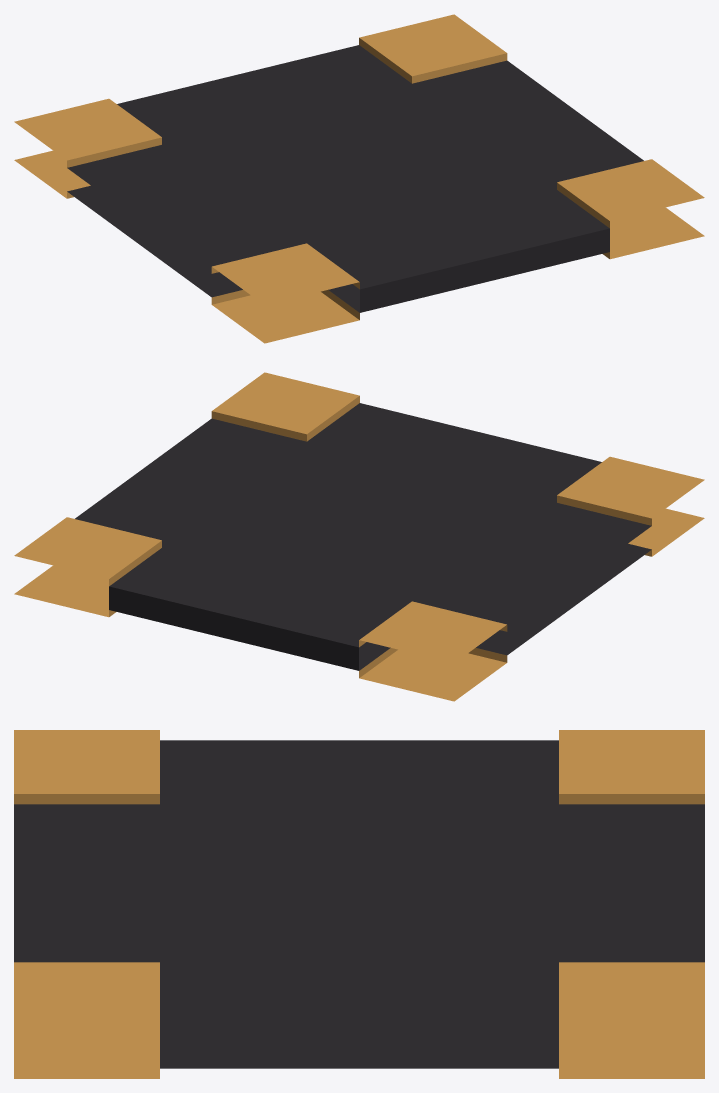
File: X-Inter.fbx
3 views of the same model, one above another, from view 1: azimuth 30°, elevation 25°; view 2: azimuth 150°, elevation 25°; view 3: azimuth 270°, elevation 25° (orthographic). The views are drawn at different scales.
Parts seen in each view (by area): view 1: Cube.001; view 2: Cube.001; view 3: Cube.001.
Boxes of the visible parts, x1=… form: Cube.001: x1=14, y1=14, x2=704, y2=343; Cube.001: x1=14, y1=372, x2=704, y2=701; Cube.001: x1=14, y1=730, x2=704, y2=1078.
Size of the model in its own units: 533 by 44.25 by 525.
